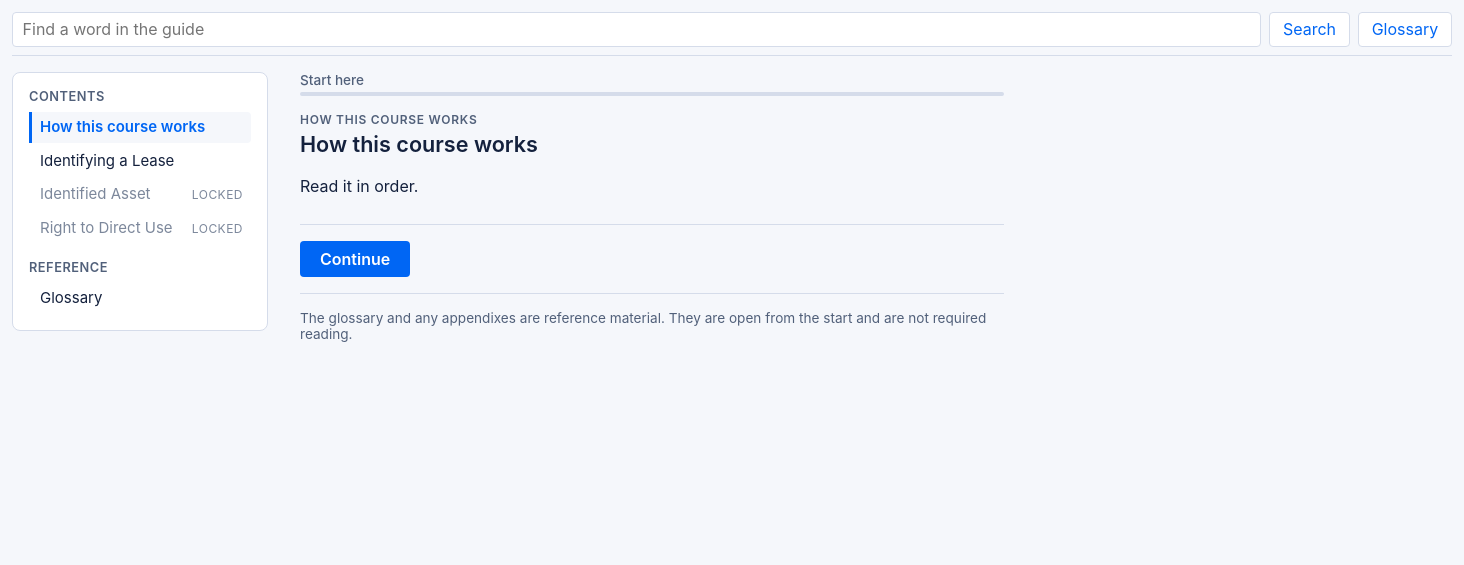
Reader as a section stepper (027) › front matter renders first, with the navigation instructions
Expected: the element that starts with "Start here" is shown, [300,72,364,88]
Expected: the element that starts with "Start here" shows "How this course works", [300,112,477,127]
Click the button "Continue" at (355, 259), box [300,241,410,277]
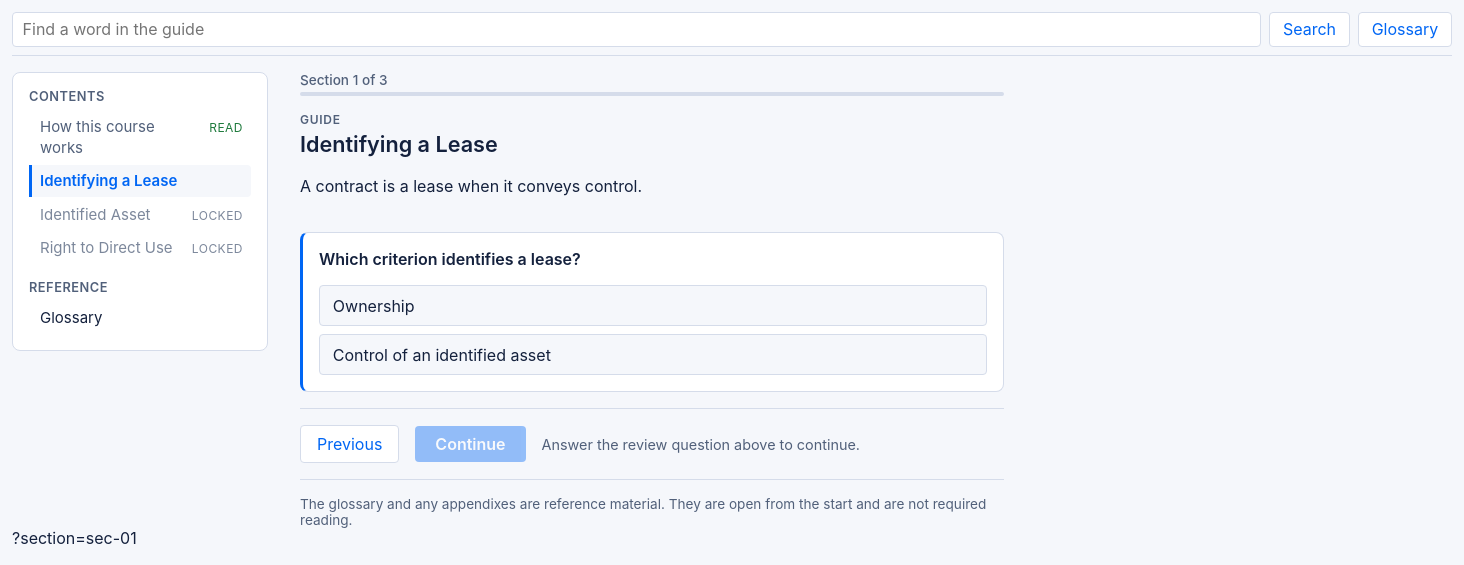
Now the text with id "location" reads "?section=sec-01", box [12,528,137,548]
